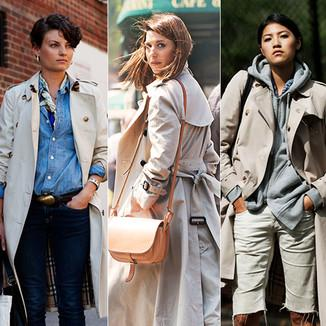no_mask: (28, 10, 81, 73), (139, 14, 191, 78), (255, 10, 304, 67)
